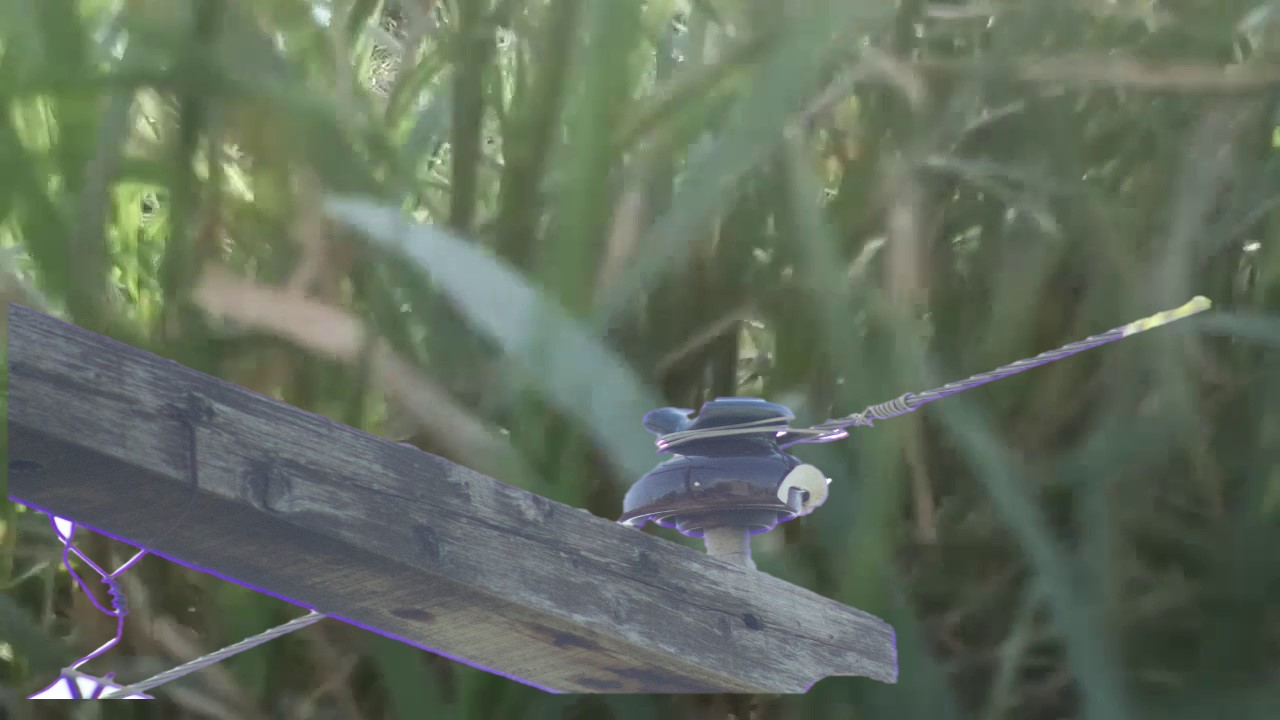defect_pin: (614, 390, 837, 543)
